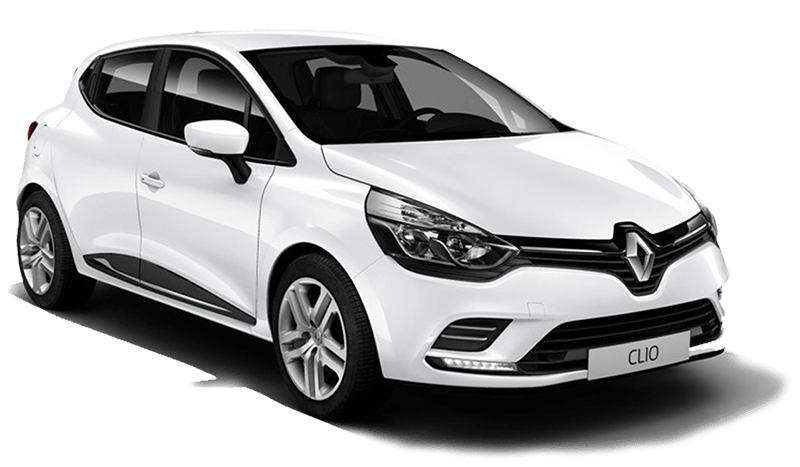car: (18, 30, 727, 412)
